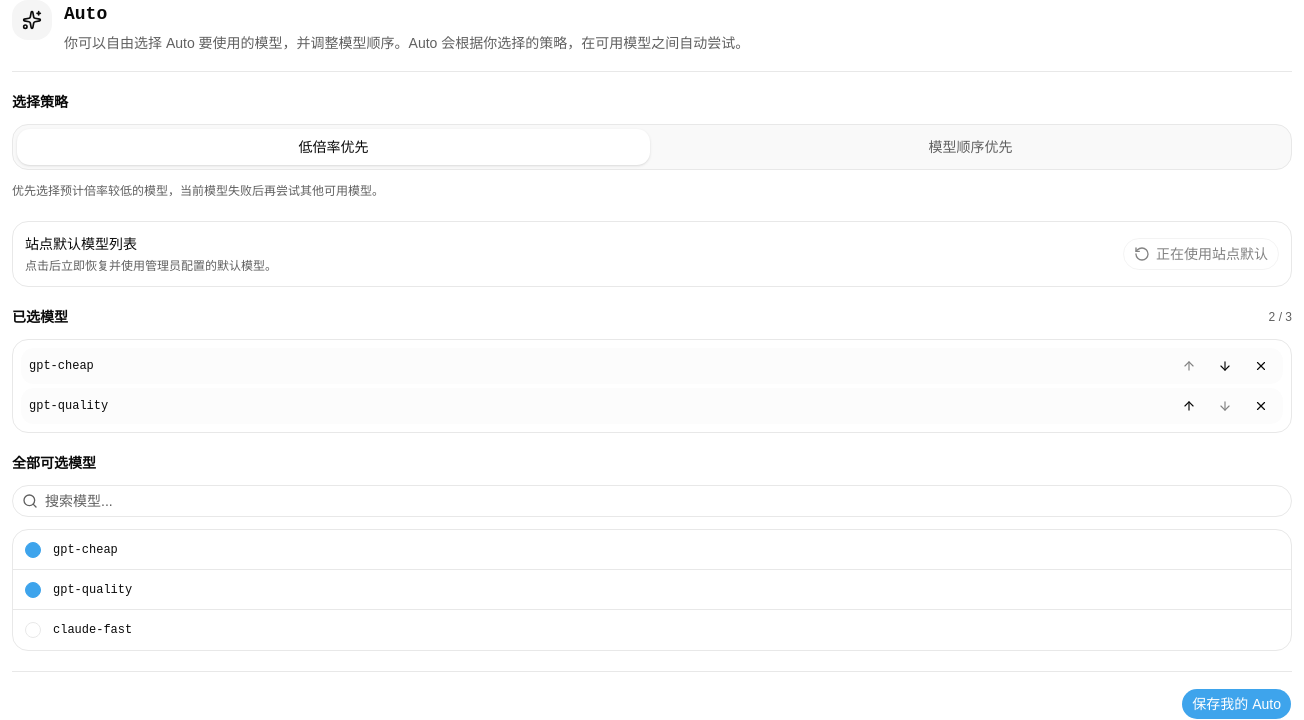
Test: Auto model configurator › shows restore default after changes and restores the default state
The image size is (1304, 720).
Click the button "模型顺序优先". click: [970, 147]
box: [654, 129, 1287, 165]
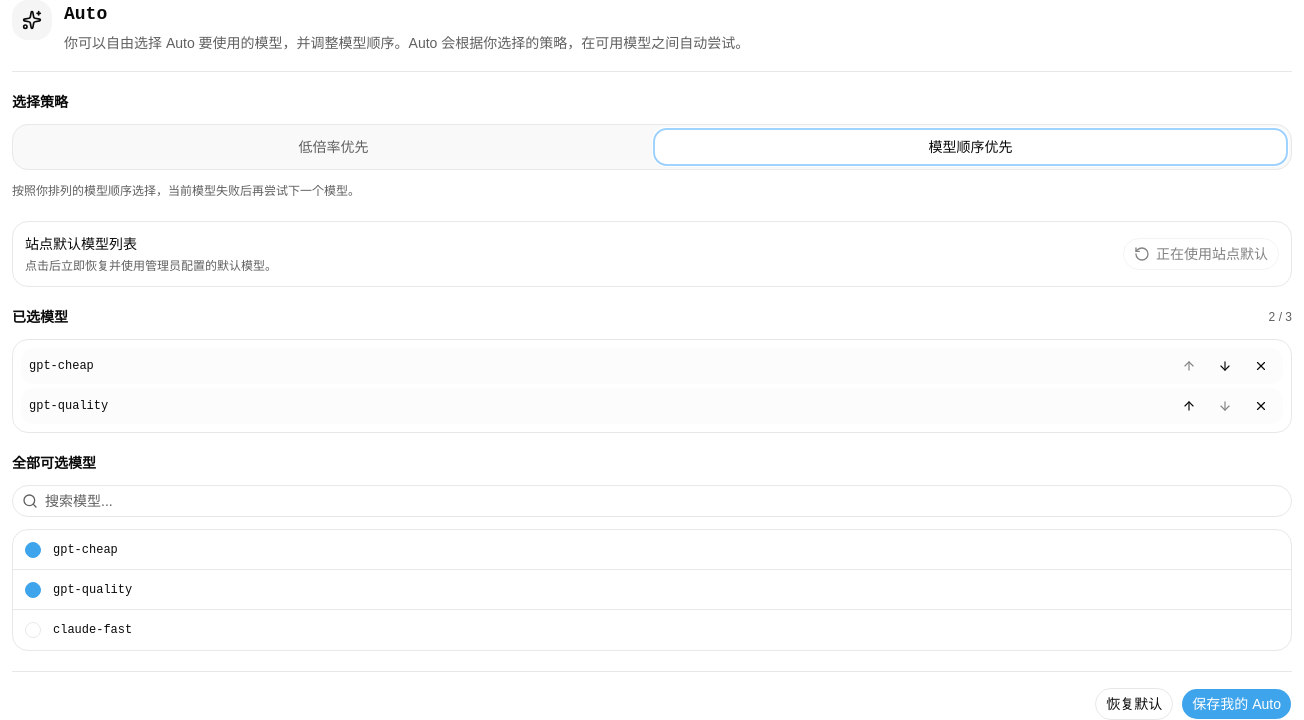
Check: the button "恢复默认" is shown
Click the button "恢复默认". click: [1134, 704]
box: [1095, 688, 1173, 719]
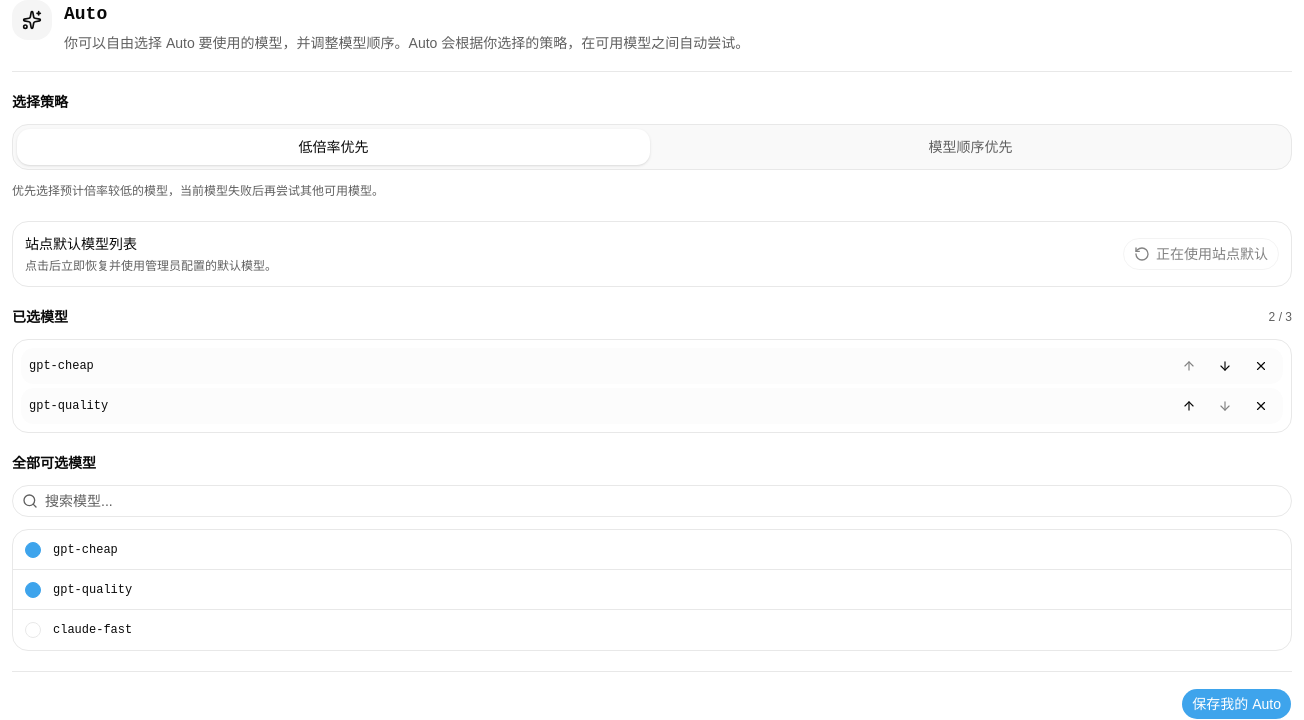
Check: the button "恢复默认" is gone
